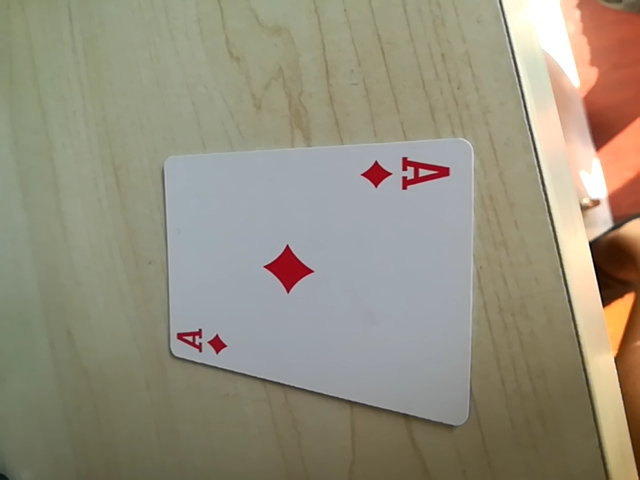fk a: (359, 153, 455, 196), (170, 322, 233, 359)
